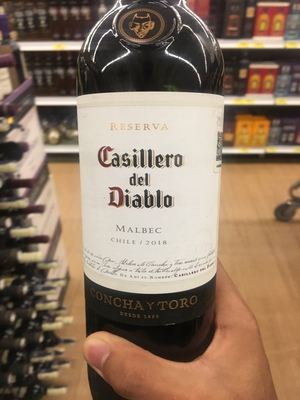casillero del diablo malbec: (78, 2, 228, 379)
